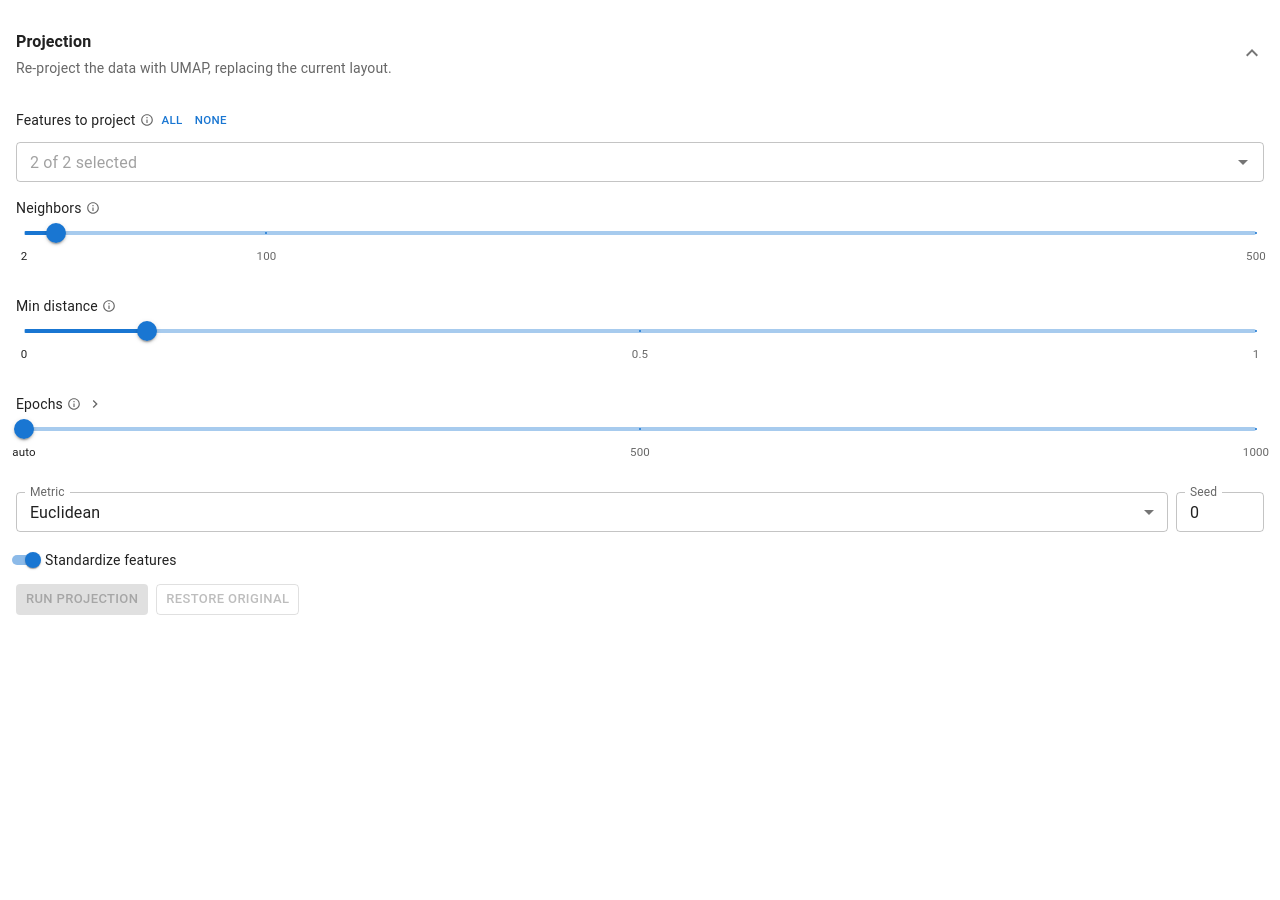
it: ProjectionTabPanel server-dataset gate › blocks Run, with a reason, when a cut provider owns the dataset
The image size is (1280, 900).
Hover over the element showing "Run projection" at (82, 600), box [16,584,148,615]
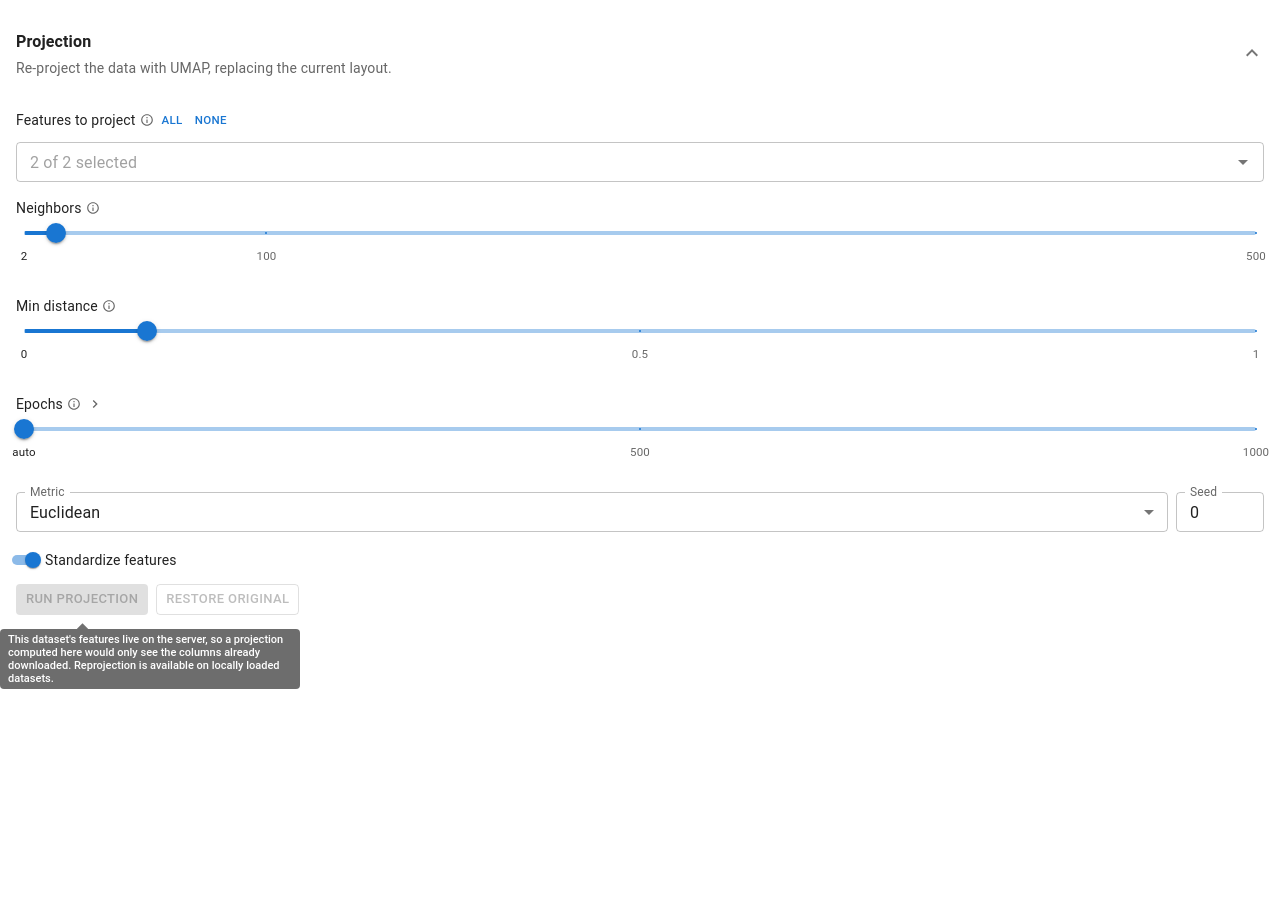
Check: the text "features live on the server" is shown, box [8,633,283,685]
